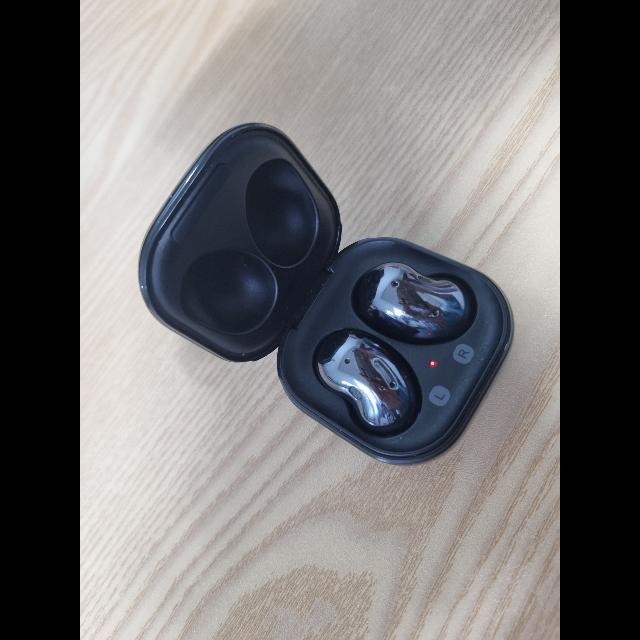buds_live: (133, 120, 515, 466)
